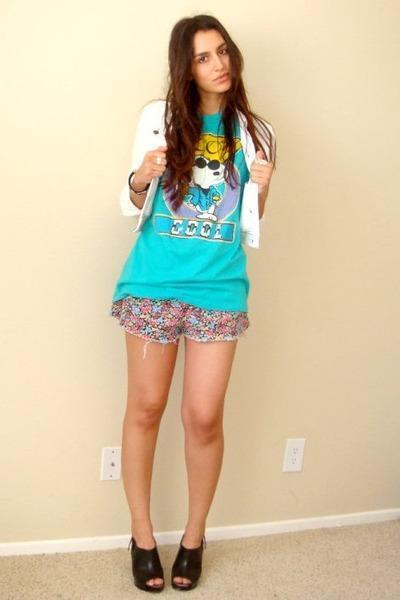jacket: (117, 101, 270, 246)
shirt: (114, 112, 249, 311)
shoe: (131, 537, 202, 593)
shorts: (111, 295, 248, 338)
